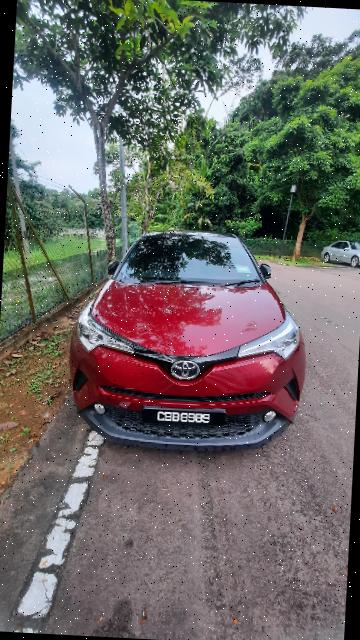License_Plate: (137, 404, 229, 433)
car: (70, 220, 315, 466)
